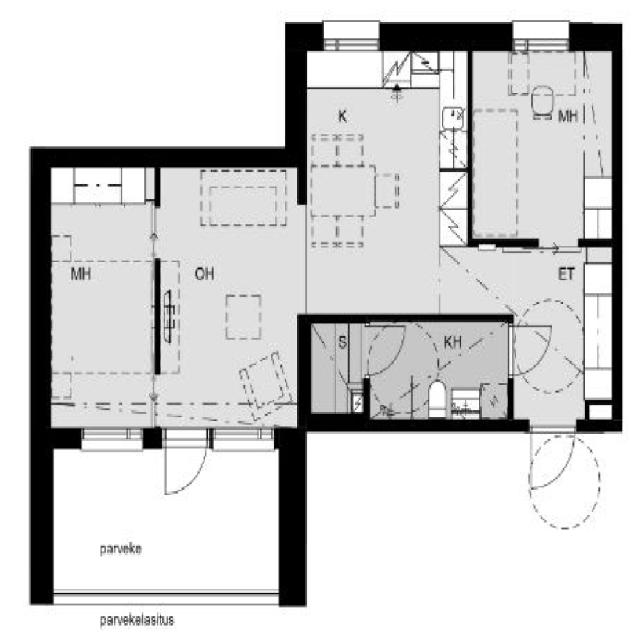door: (160, 427, 210, 503), (526, 422, 580, 490), (503, 320, 554, 388), (358, 323, 406, 379), (140, 204, 168, 256)
window: (312, 14, 387, 58), (73, 422, 148, 455), (208, 421, 278, 455), (511, 31, 576, 54)
zone: (306, 53, 460, 320), (156, 166, 300, 425), (471, 47, 615, 244), (47, 175, 157, 419), (366, 320, 508, 420), (308, 321, 366, 423)
